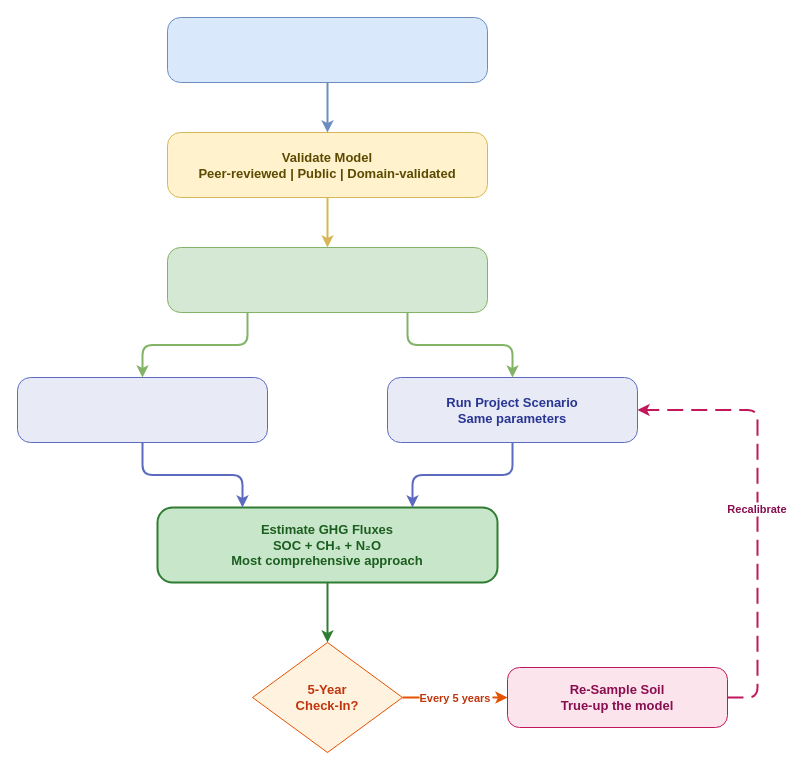
Some shapes in this 806 by 770 pixel diagram are drawn without their labels. Each missing label, with the centre of its shape:
"Collect Initial Soil Samples SOC | Bulk Density | Texture" goes at (327,279).
"Run Baseline Scenario Same parameters" goes at (142,409).
"Select Approved Model DNDC | DayCent | RothC | CENTURY" goes at (327,49).
